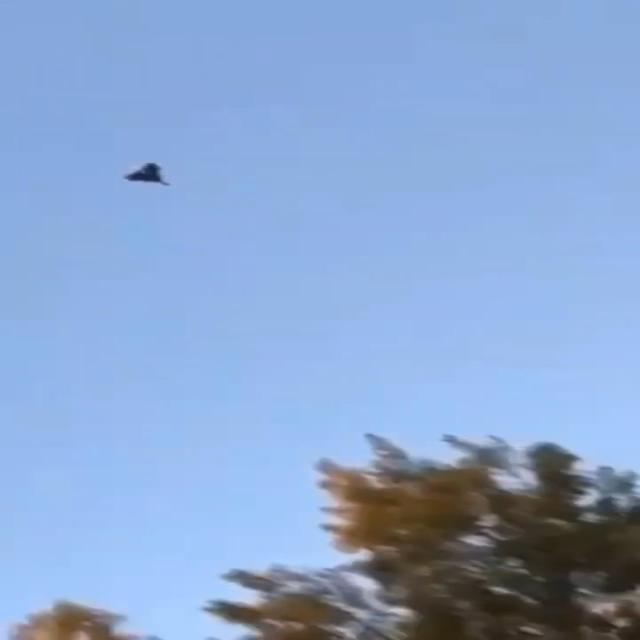drone: (116, 162, 182, 192)
